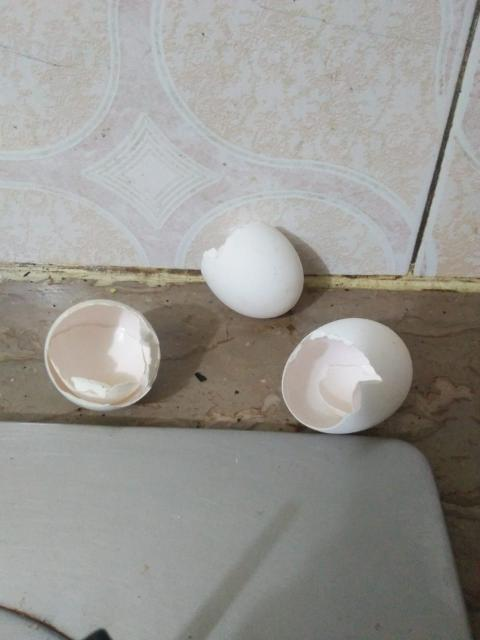Roto: (280, 316, 413, 434), (45, 299, 162, 411), (200, 220, 304, 319)
